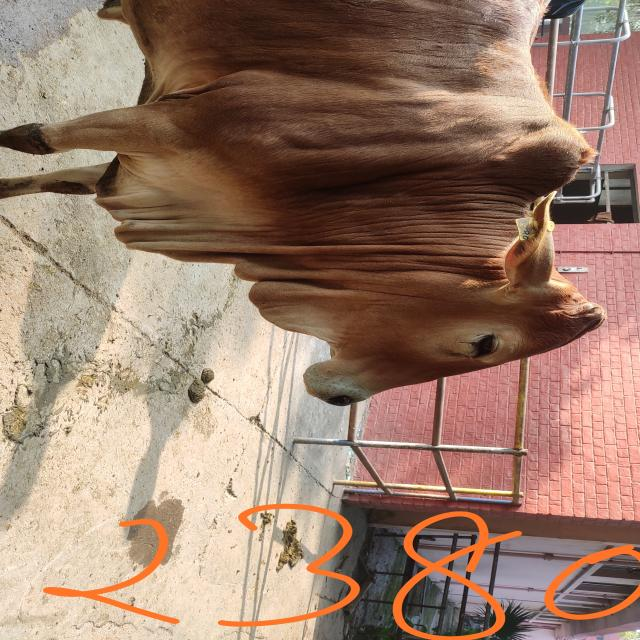cow: (1, 0, 607, 407)
hump: (536, 98, 592, 212)
